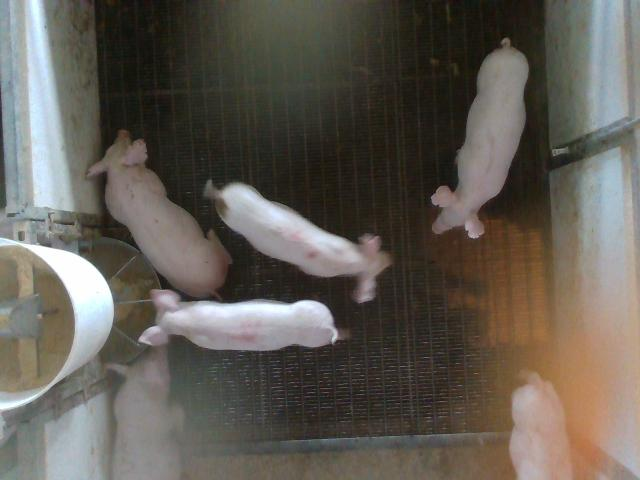pig-4: (139, 291, 339, 351)
pig-5: (204, 180, 392, 302)
